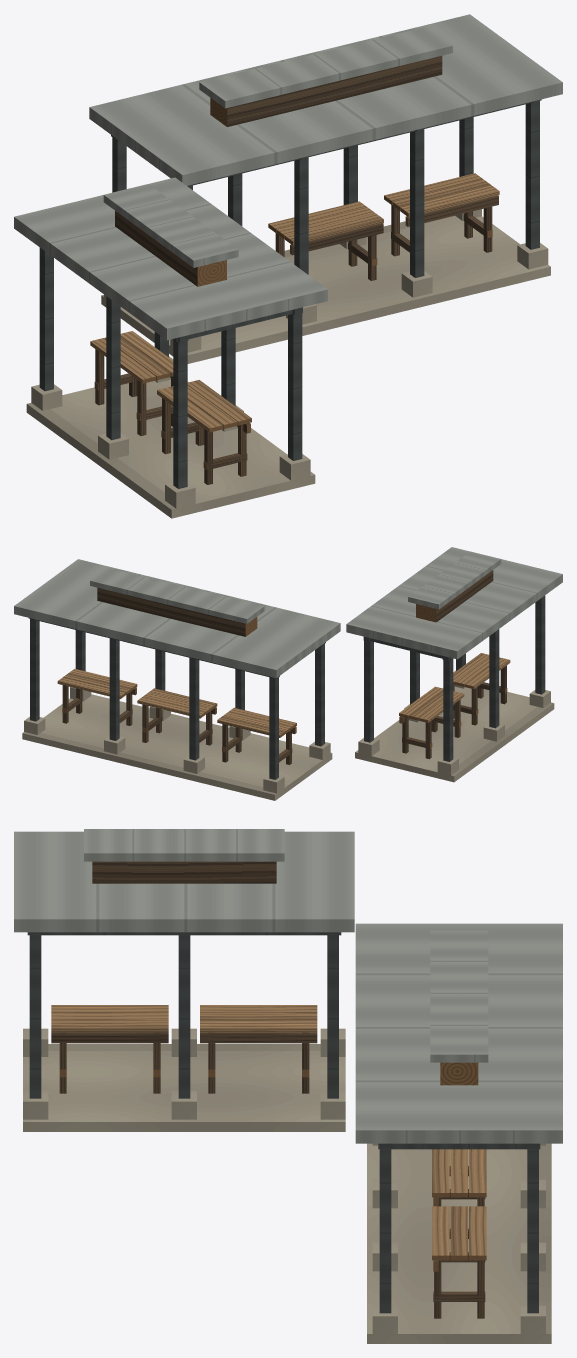
The model's file is katsina.glb.
3 views of the same model, one above another, from view 1: azimuth 30°, elevation 25°; view 2: azimuth 150°, elevation 25°; view 3: azimuth 270°, elevation 25° (orthographic). The views are drawn at different scales.
Parts seen in each view (by area): view 1: katsina; view 2: katsina; view 3: katsina.
Boxes of the visible parts, x1,y1,x2,y2 form: katsina: (14,14,562,518); katsina: (14,547,562,800); katsina: (14,829,562,1343).
Size of the model in its own units: 6.36 by 2.5 by 4.94.
Materials: 1 (1 with a texture image).
